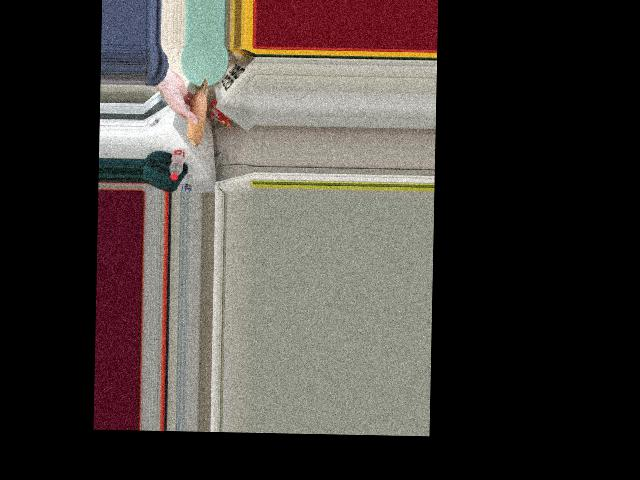sweet_potato: (190, 73, 209, 149)
